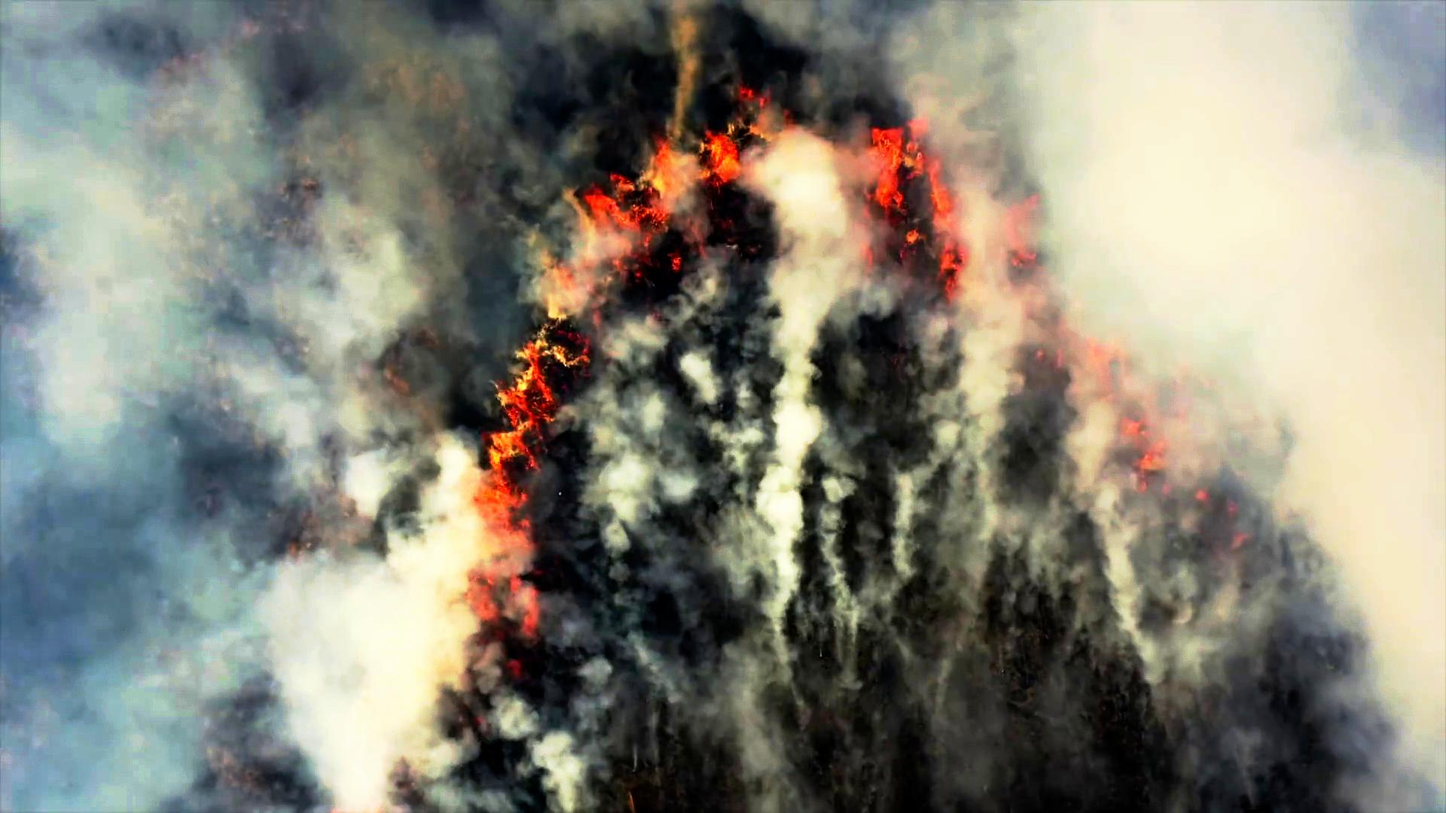fire: (863, 115, 960, 285), (473, 343, 549, 541), (573, 164, 674, 253), (695, 93, 776, 183)
smoke: (0, 0, 433, 420), (1072, 17, 1446, 366)
